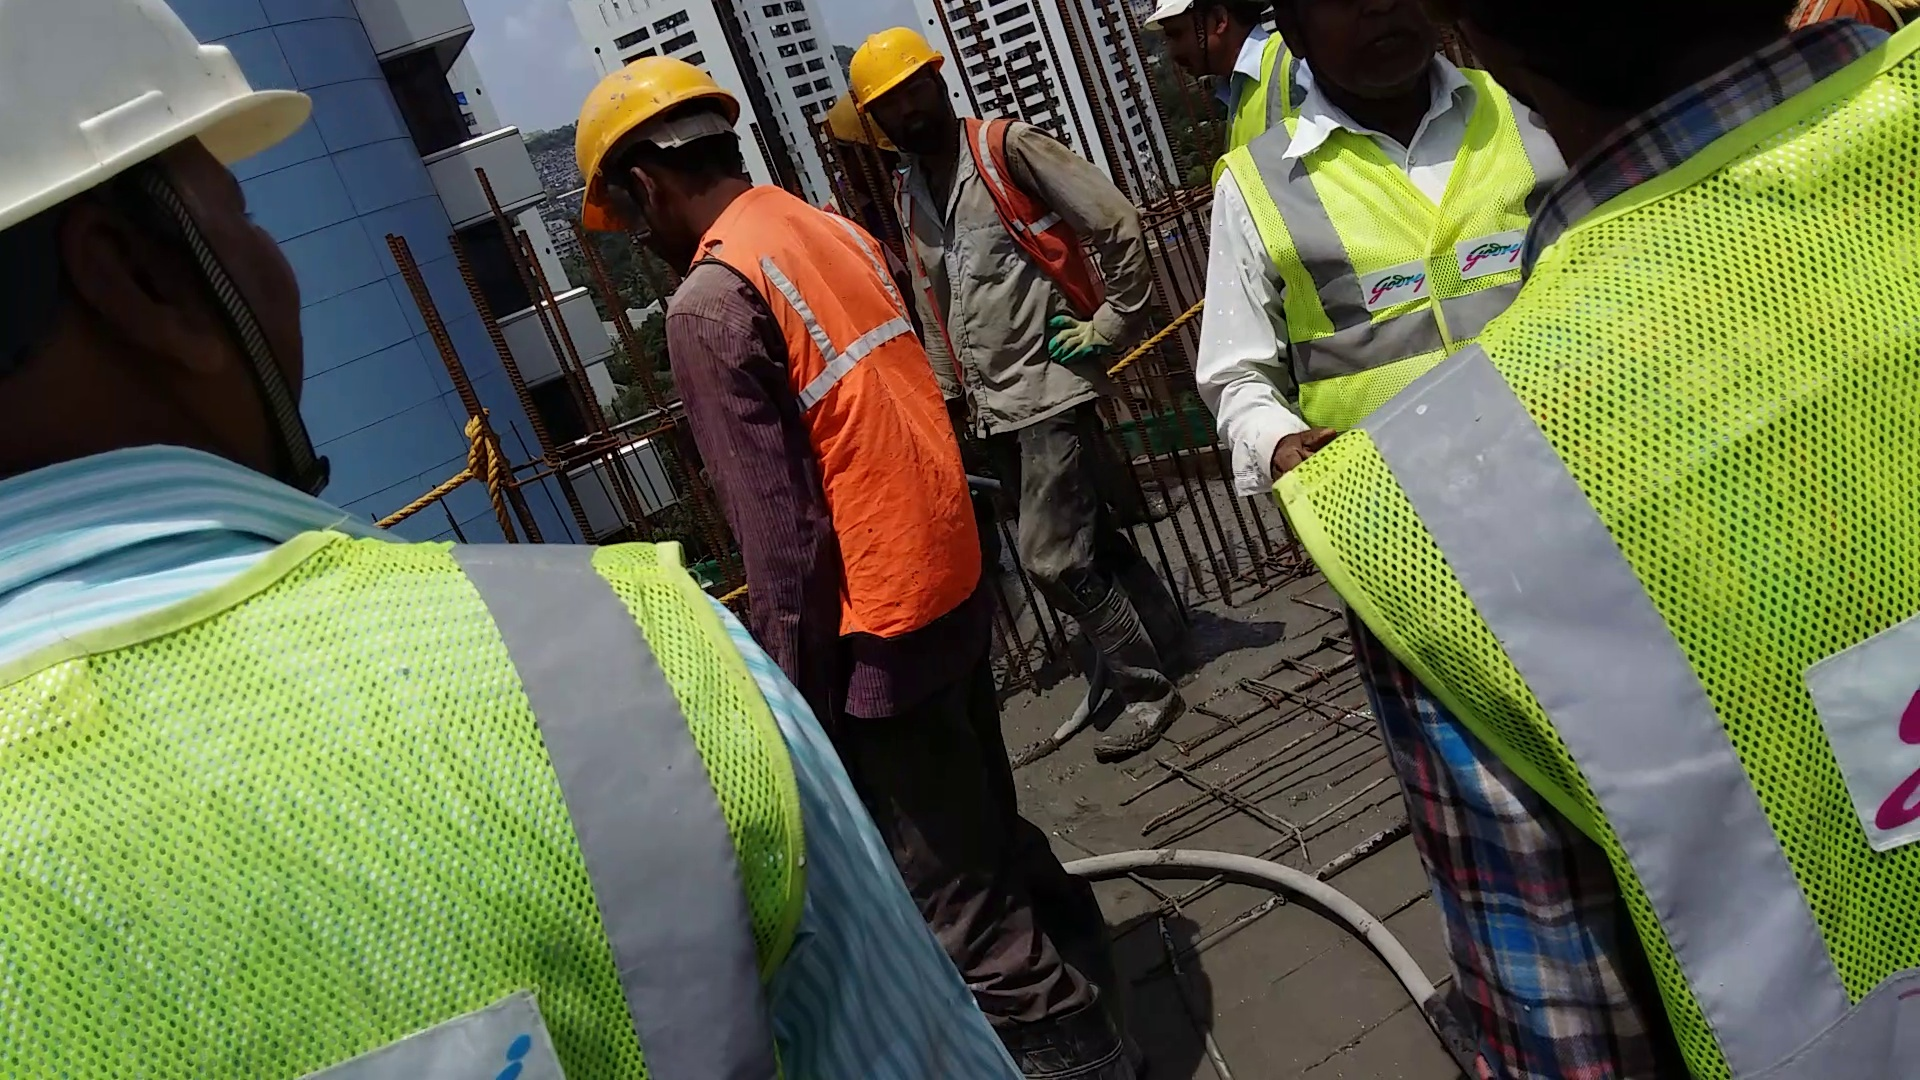SAFE: (5, 5, 593, 1080), (600, 51, 907, 600), (884, 21, 1081, 419)
